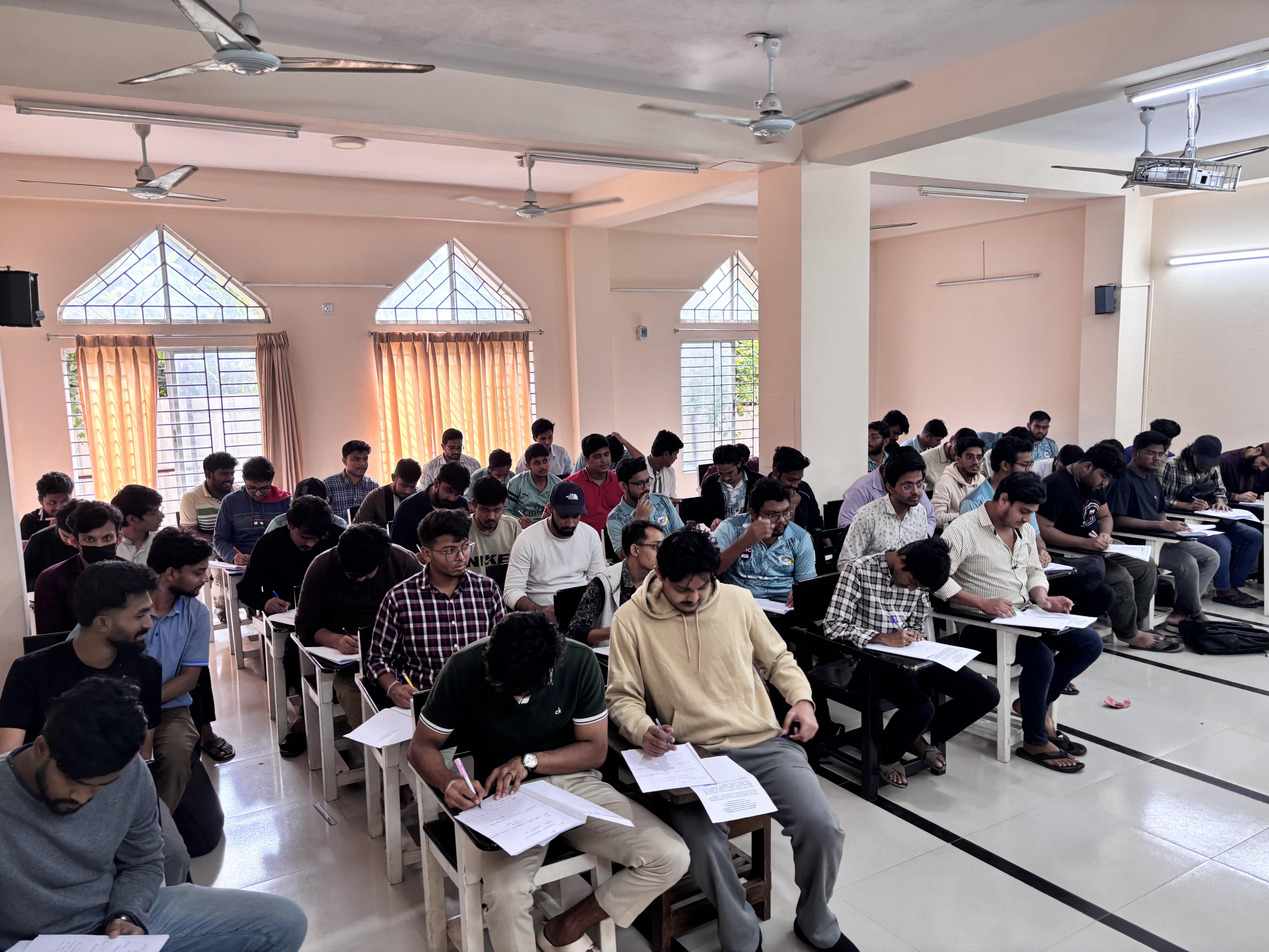copying: (10, 568, 171, 728), (118, 529, 224, 731), (109, 476, 178, 543)
no_cheating: (414, 611, 612, 879), (608, 531, 746, 896), (1, 696, 192, 951), (819, 536, 967, 720), (949, 478, 1073, 671), (298, 522, 399, 671), (1051, 445, 1140, 607), (243, 505, 327, 634), (515, 485, 587, 604), (219, 465, 281, 587), (853, 469, 929, 553), (1177, 436, 1235, 537), (565, 434, 625, 519), (458, 482, 516, 562), (318, 431, 380, 505), (1227, 425, 1269, 534), (357, 456, 425, 515), (412, 465, 473, 530), (514, 446, 563, 520), (13, 466, 71, 526), (929, 430, 986, 487), (771, 446, 819, 507), (708, 444, 753, 509), (427, 425, 481, 470), (991, 439, 1049, 474), (475, 449, 518, 487), (904, 414, 948, 451), (519, 415, 566, 449)
side_talking: (650, 424, 692, 485)
suspicious_moving: (715, 492, 815, 613), (34, 502, 124, 621), (595, 515, 667, 629), (602, 459, 681, 555), (1018, 405, 1068, 449), (871, 420, 890, 467)
